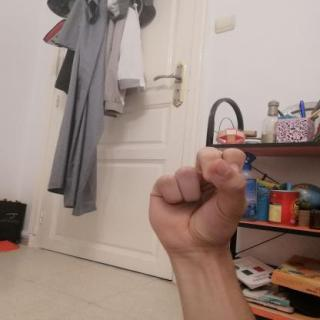QAAF: (136, 136, 258, 264)
